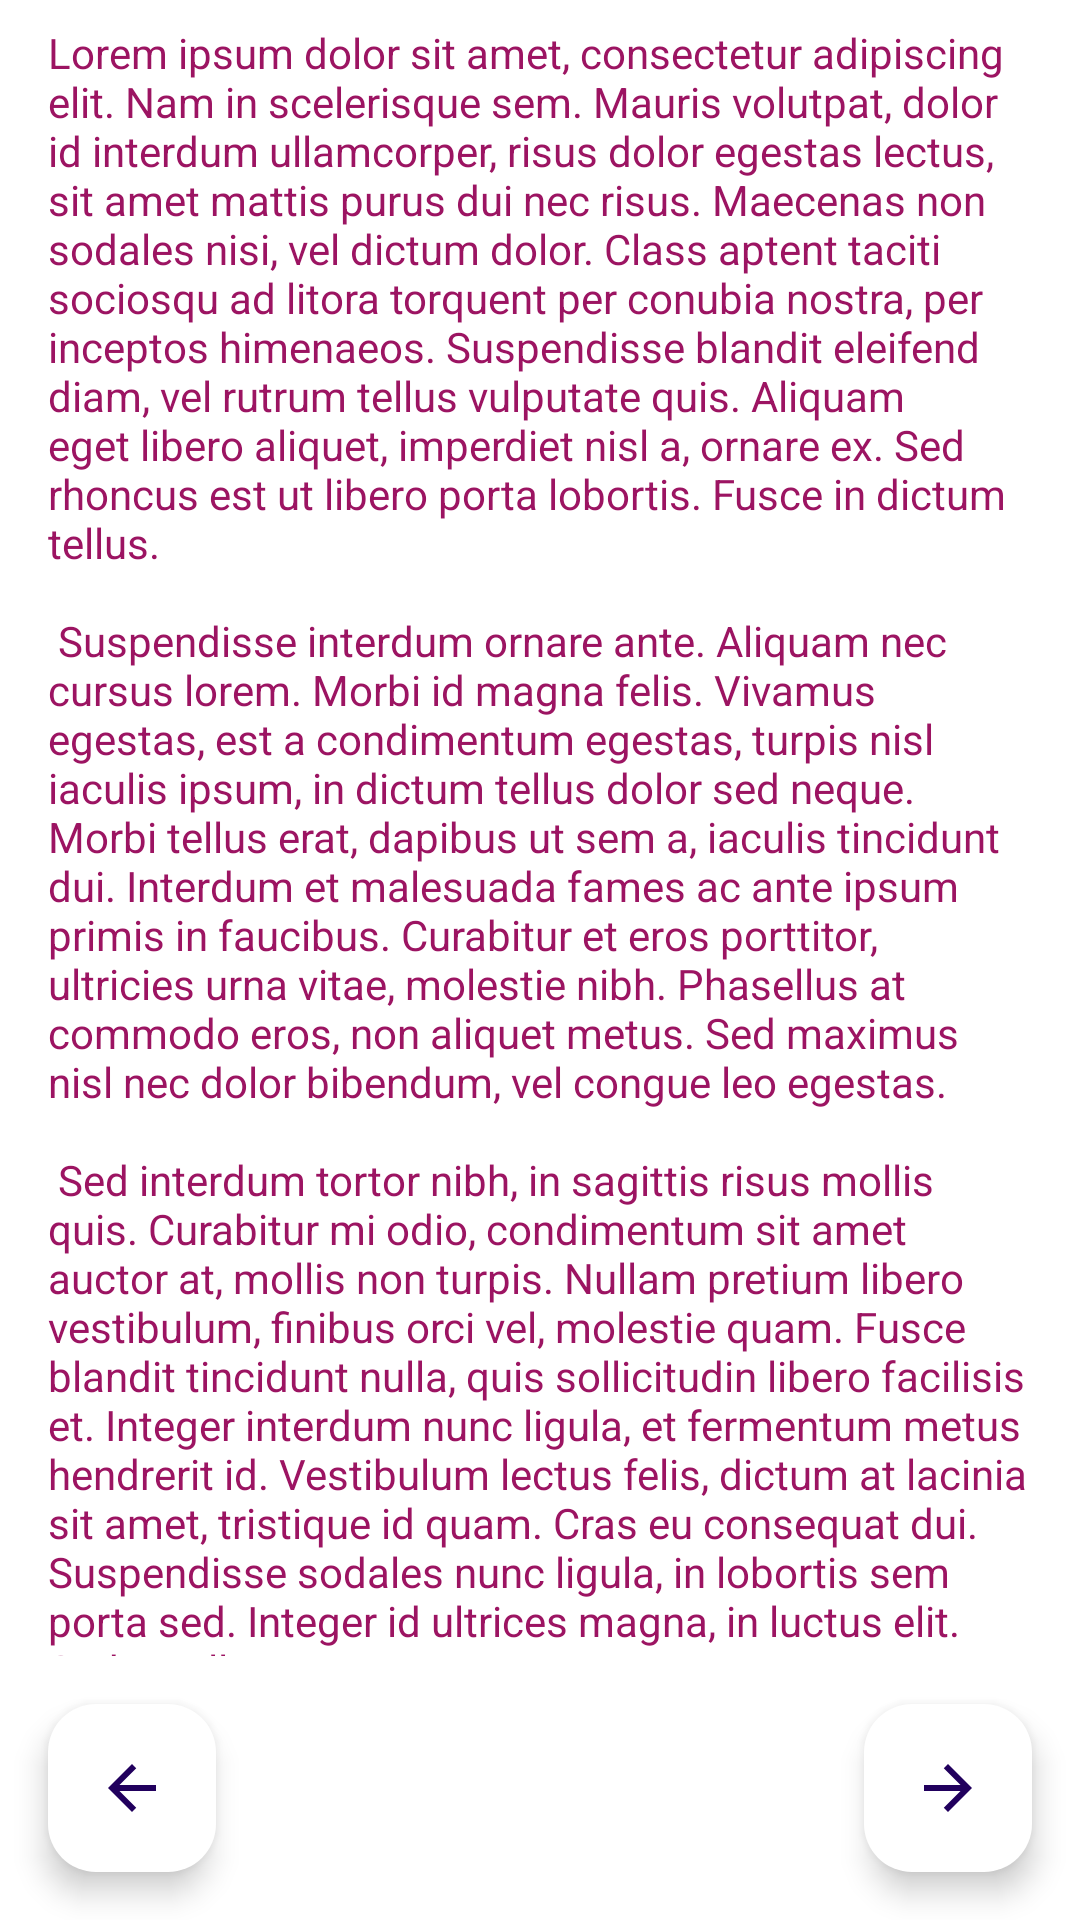

Screen size 1080w x 1920h. Icon name, then its box in pixels as (x1, y1, x2, y2):
arrow back: (108, 1764, 156, 1812)
arrow forward: (924, 1764, 972, 1812)
